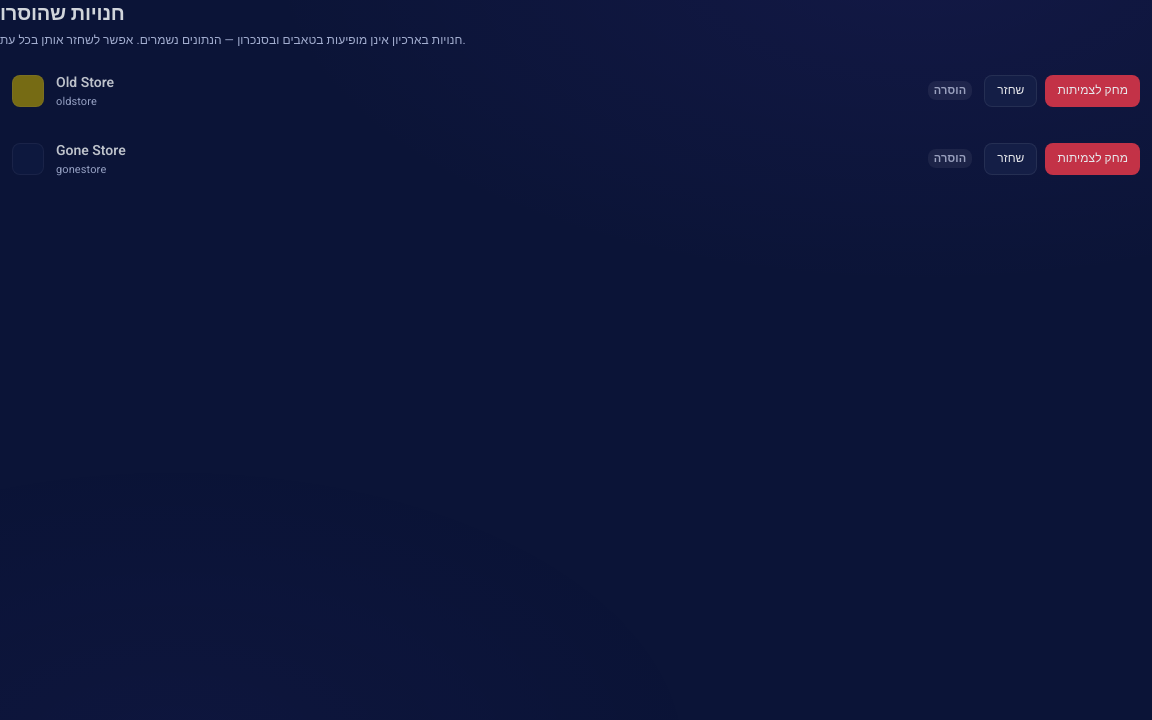
RemovedStores — delete-confirm modal (Phase 6b T3-delete) › keeps the confirm DISABLED until the typed name EXACTLY matches
Click the button "מחק לצמיתות" in the row of "Old Store": (1093, 91) [1045, 75, 1140, 107]
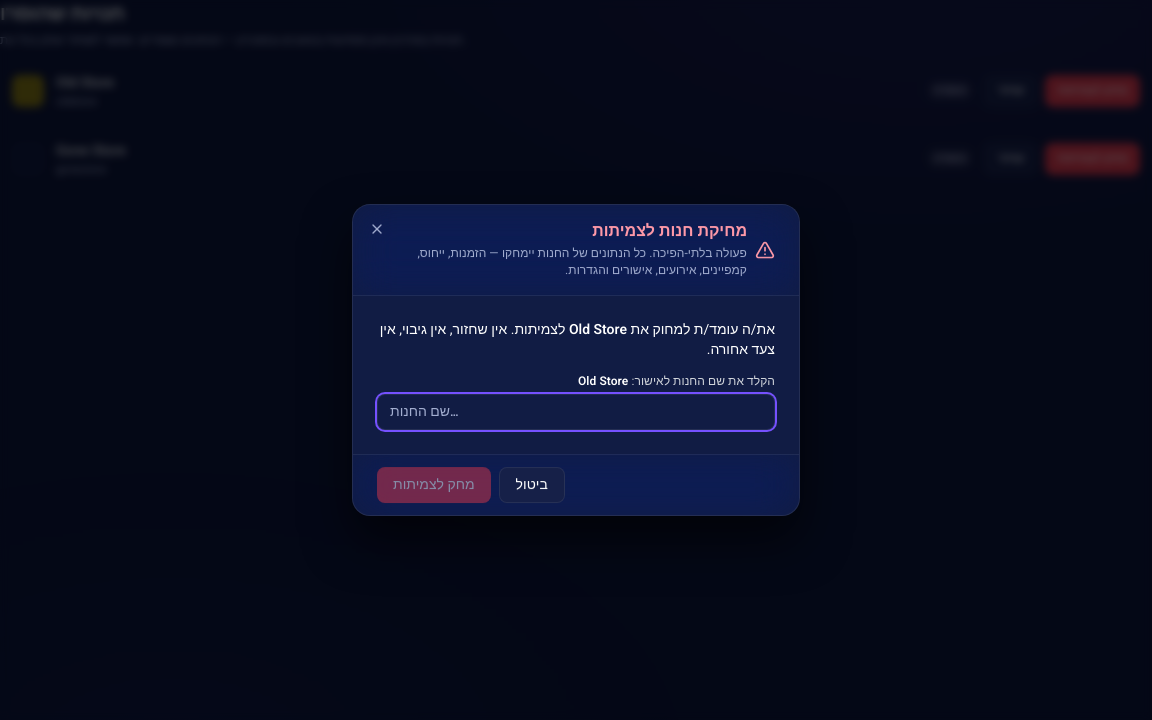
Check: the button "מחק לצמיתות" is disabled, box [377, 467, 491, 503]
In the field labelled "הקלד את שם החנות לאישור: Old Store": (576, 412) [377, 394, 775, 430], type "Old Stor"
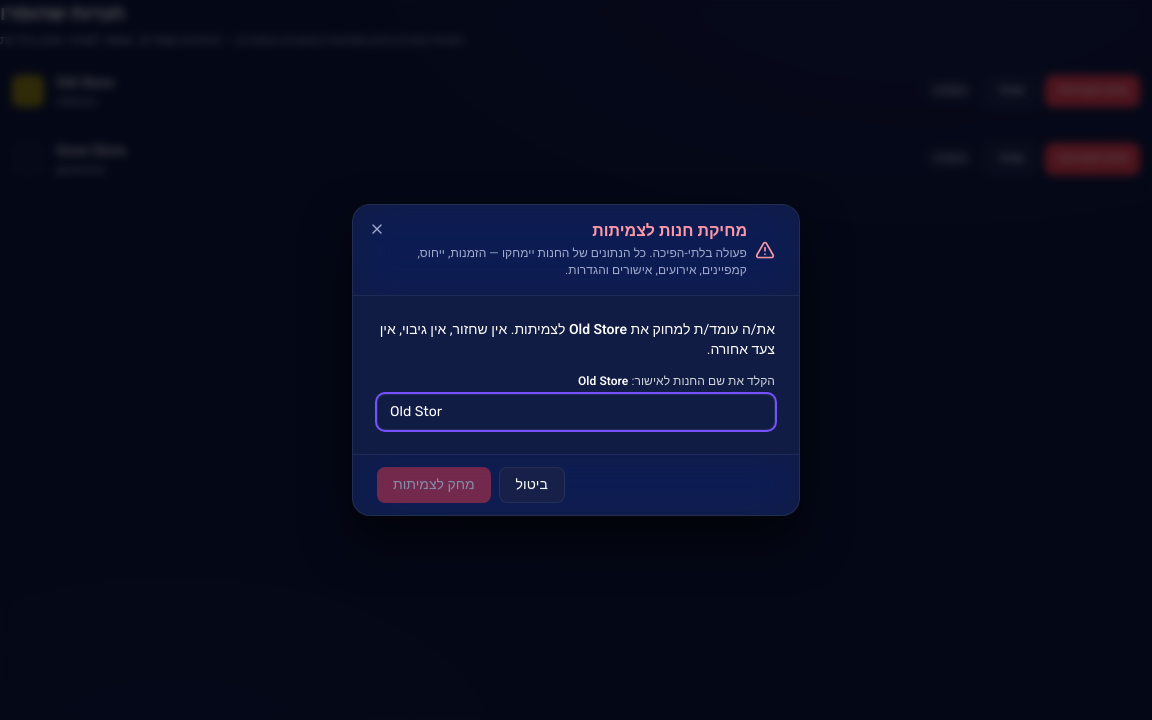
Check: the button "מחק לצמיתות" is disabled, box [377, 467, 491, 503]
Replace the text in the field labelled "הקלד את שם החנות לאישור: Old Store" with "old store": (576, 412) [377, 394, 775, 430]
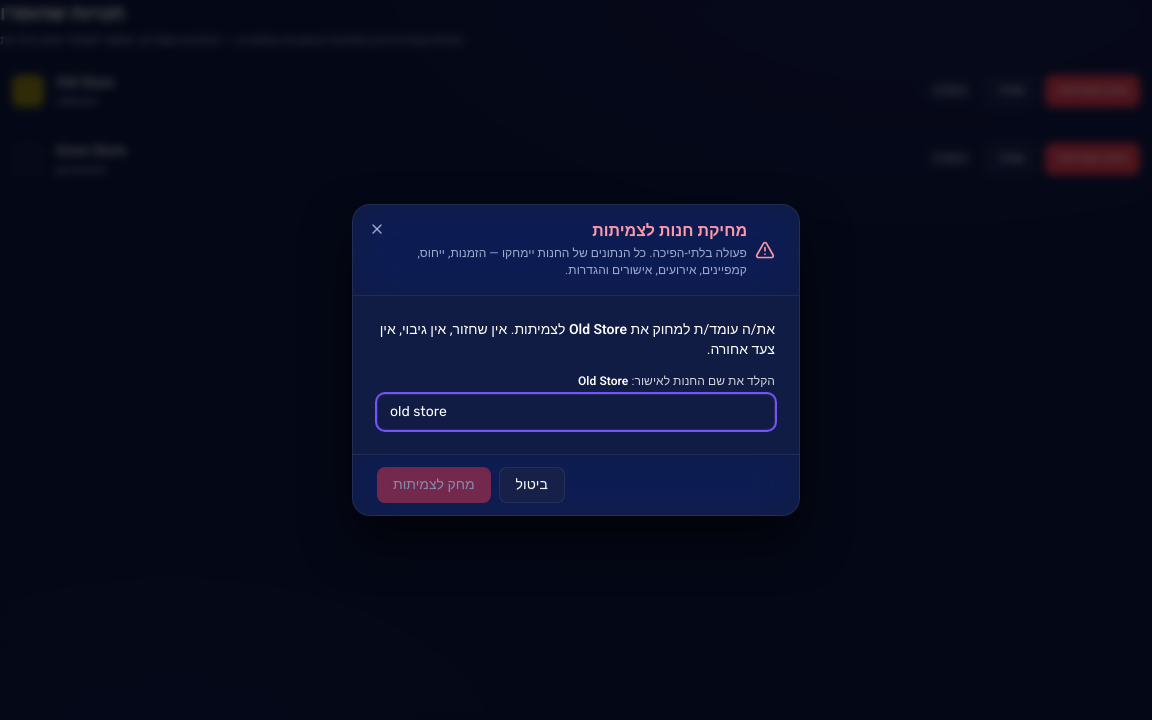
Check: the button "מחק לצמיתות" is disabled, box [377, 467, 491, 503]
Replace the text in the field labelled "הקלד את שם החנות לאישור: Old Store" with "Old Store": (576, 412) [377, 394, 775, 430]
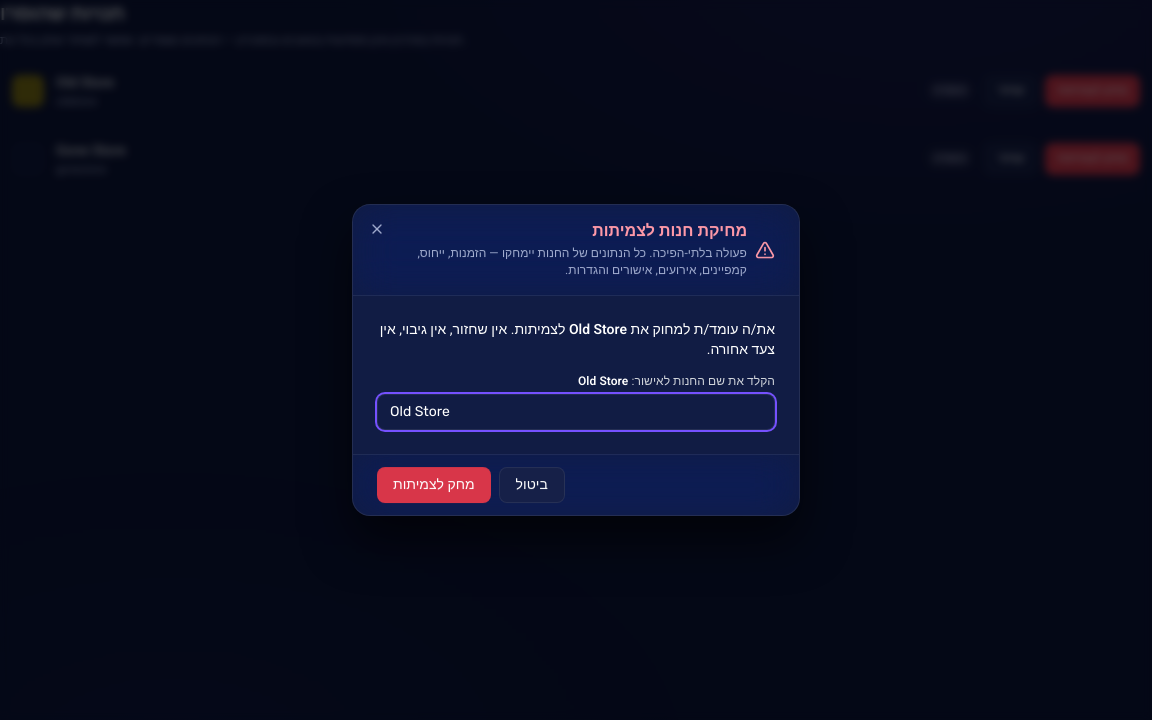
Check: the button "מחק לצמיתות" is enabled, box [377, 467, 491, 503]
